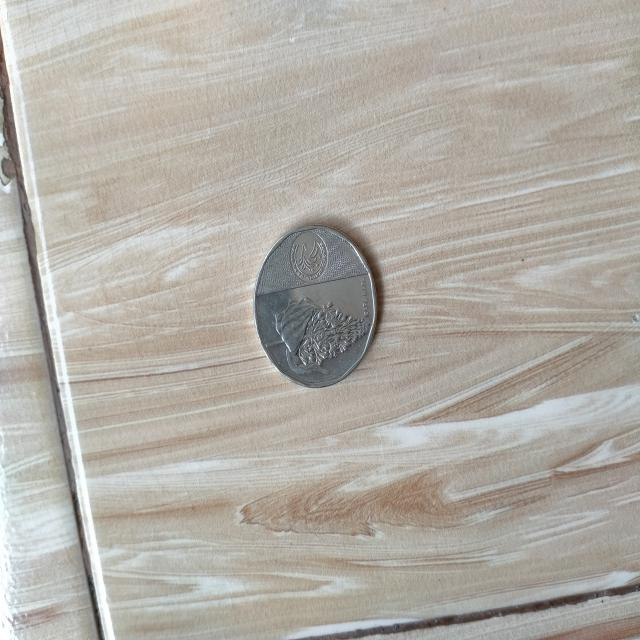10_New_Back: (263, 294, 374, 369)
